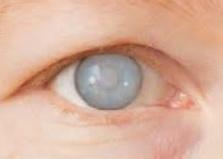eye: (74, 54, 142, 109)
